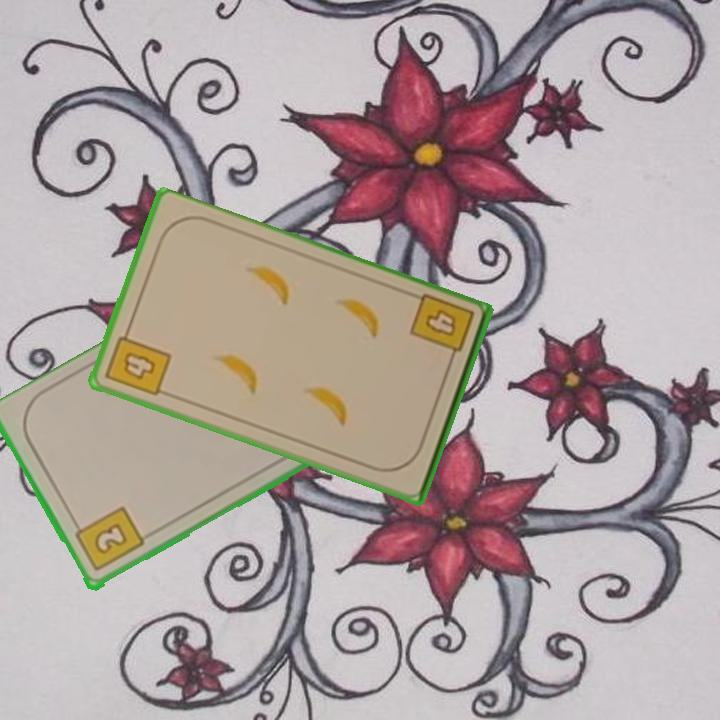2b: (70, 503, 147, 575)
4b: (406, 290, 477, 369), (102, 324, 174, 400)
